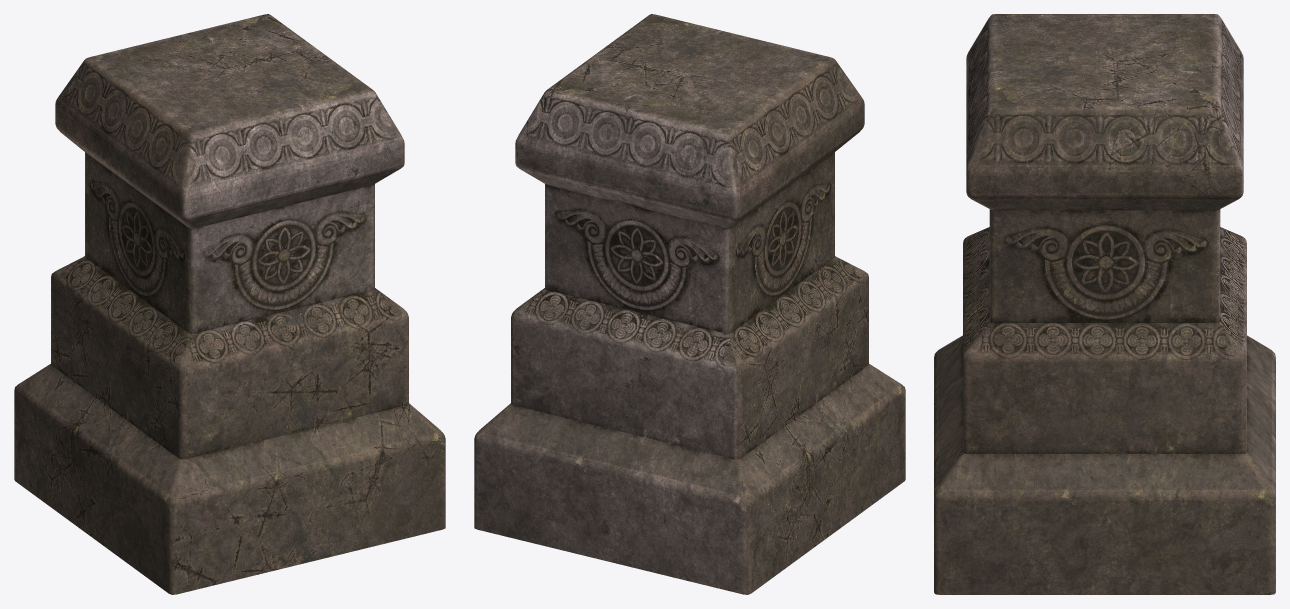
File: SM_gravestone_48.fbx
The picture shows the model from 3 angles, left to right: view 1: azimuth 30°, elevation 25°; view 2: azimuth 150°, elevation 25°; view 3: azimuth 270°, elevation 25°; orthographic projection. The views are drawn at different scales.
Parts seen in each view (by area): view 1: SM_gravestone_048; view 2: SM_gravestone_048; view 3: SM_gravestone_048.
Part boxes in pixels (x1=…): SM_gravestone_048: x1=14, y1=14, x2=445, y2=594; SM_gravestone_048: x1=474, y1=14, x2=905, y2=594; SM_gravestone_048: x1=934, y1=14, x2=1275, y2=594.
Size of the model in its own units: 83.57 by 125 by 83.57.
